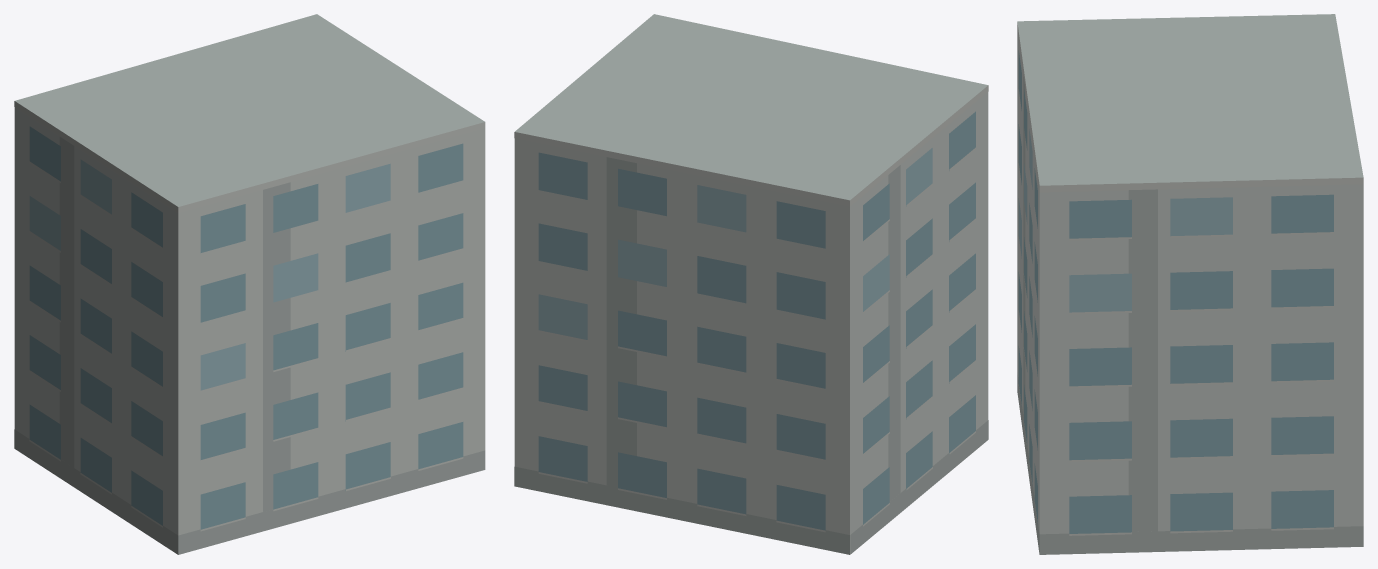
File: survey-upis-32630668.glb
The picture shows the model from 3 angles, left to right: view 1: azimuth 30°, elevation 25°; view 2: azimuth 150°, elevation 25°; view 3: azimuth 270°, elevation 25°; orthographic projection. The views are drawn at different scales.
Parts seen in each view (by area): view 1: survey-upis-32630668.tmp; view 2: survey-upis-32630668.tmp; view 3: survey-upis-32630668.tmp.
Boxes of the visible parts, box(x1,y1,x2,y2) form: survey-upis-32630668.tmp: box(14, 14, 485, 554); survey-upis-32630668.tmp: box(514, 14, 988, 554); survey-upis-32630668.tmp: box(1017, 14, 1363, 554).
Bounding box in the file's own units: 13.48 × 13.5 × 11.49.
